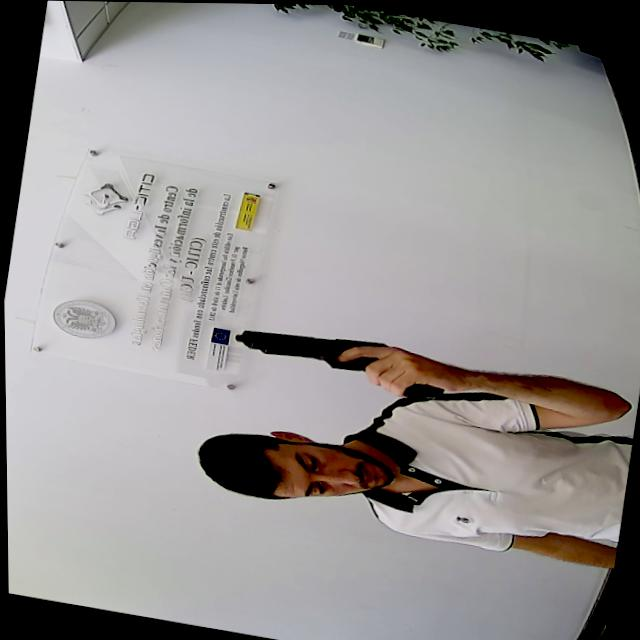pistol: (229, 317, 391, 376)
